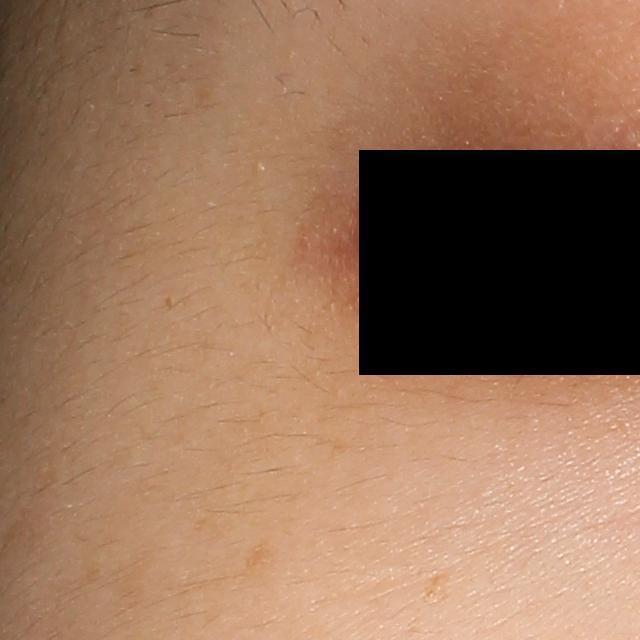melasma: (414, 570, 453, 606)
